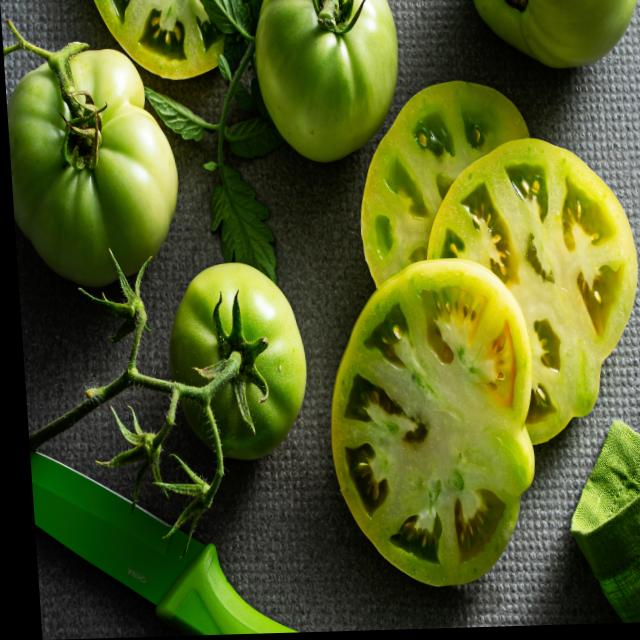yesil: (2, 38, 169, 288), (162, 262, 305, 479), (244, 0, 407, 161), (463, 0, 637, 80)
